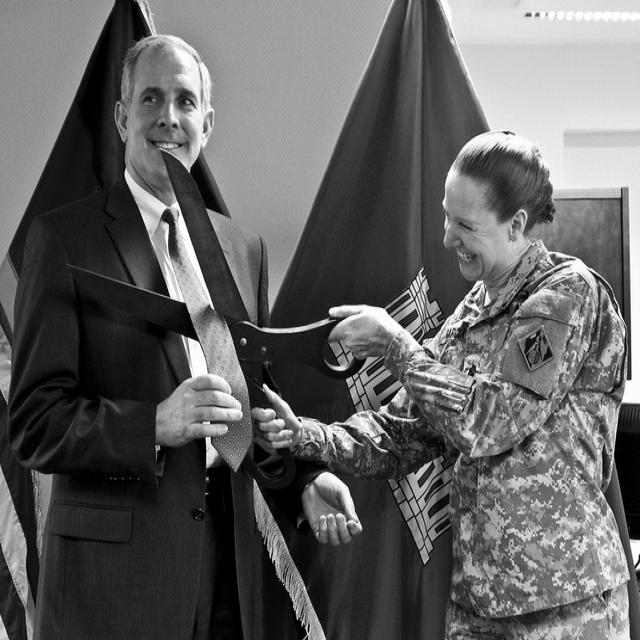monkey: (6, 29, 360, 631), (249, 129, 632, 640)
